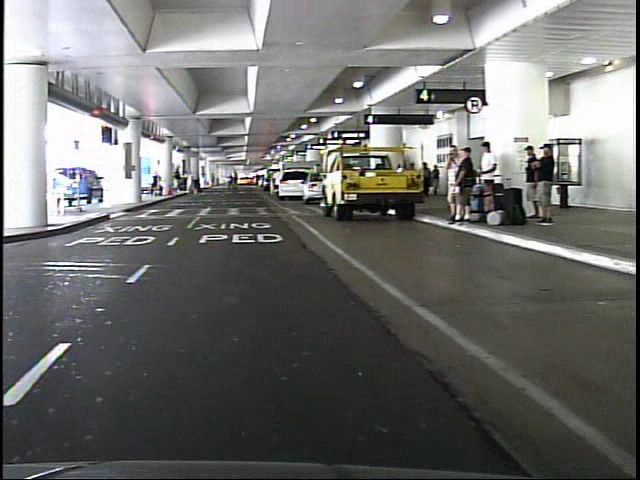person: (530, 144, 551, 229), (435, 143, 456, 219), (178, 166, 193, 200), (266, 165, 281, 187)
